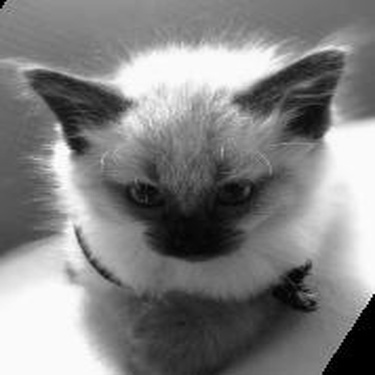cat: (20, 32, 347, 370)
